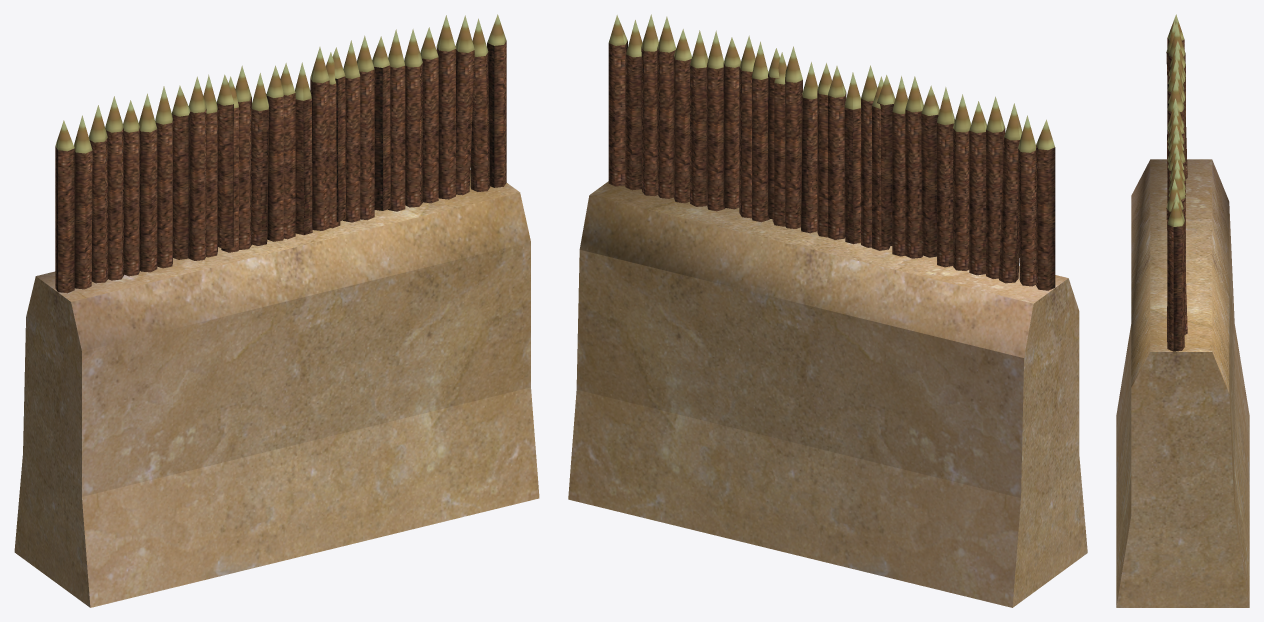
File: yayoi_wall_short.dae
The picture shows the model from 3 angles, left to right: view 1: azimuth 30°, elevation 25°; view 2: azimuth 150°, elevation 25°; view 3: azimuth 270°, elevation 25°; orthographic projection. The views are drawn at different scales.
Parts seen in each view (by area): view 1: wall_short; view 2: wall_short; view 3: wall_short.
Boxes of the visible parts, x1=… form: wall_short: x1=14, y1=14, x2=539, y2=607; wall_short: x1=568, y1=14, x2=1087, y2=607; wall_short: x1=1116, y1=14, x2=1249, y2=607.
Size of the model in its own units: 15.44 by 4.52 by 15.53.
1 material, 1 textured.
